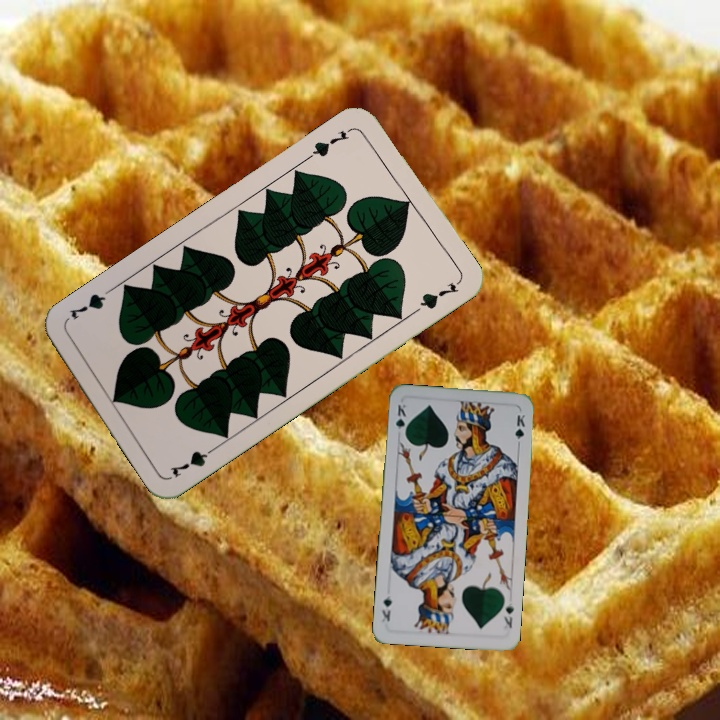G7: (166, 441, 221, 480), (304, 123, 357, 162)
GK: (391, 400, 408, 440), (500, 599, 517, 631)
